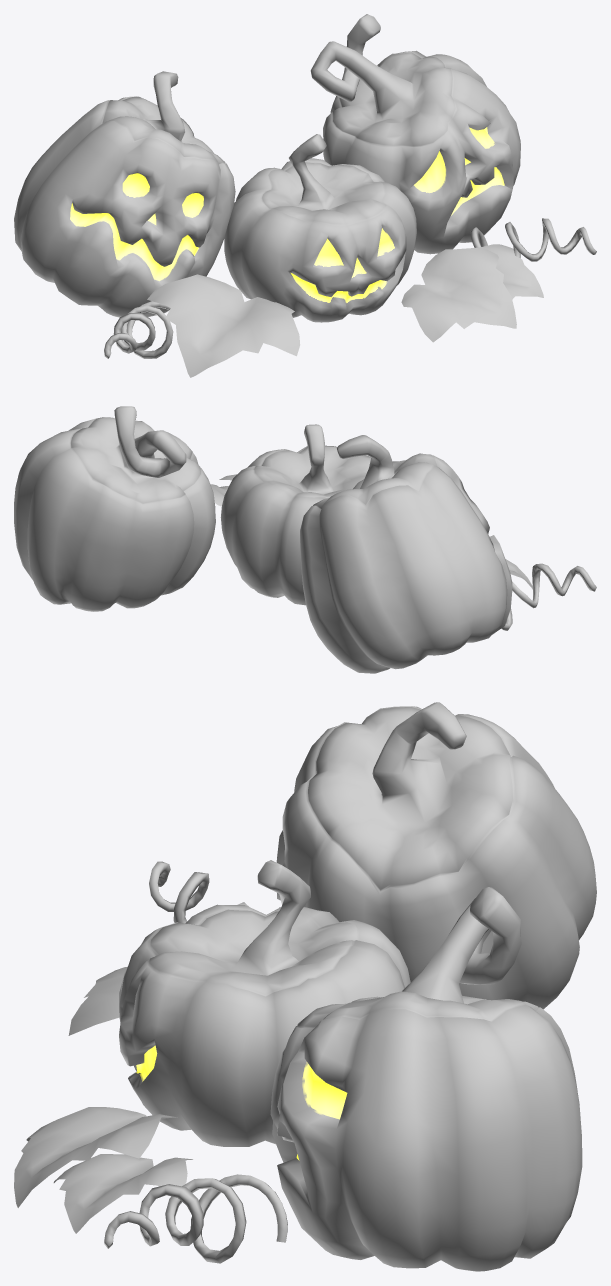
3 renders of one model, top to bottom at view 1: azimuth 30°, elevation 25°; view 2: azimuth 150°, elevation 25°; view 3: azimuth 270°, elevation 25°, orthographic. The views are drawn at different scales.
Parts seen in each view (by area): view 1: RetopoFlow.002, RetopoFlow.001, RetopoFlow, RetopoFlow.006, RetopoFlow.003, Spiral.002, Spiral.001, RetopoFlow.005; view 2: RetopoFlow.002, RetopoFlow.001, RetopoFlow, Spiral.002; view 3: RetopoFlow.001, RetopoFlow.002, RetopoFlow, RetopoFlow.003, Spiral.001, RetopoFlow.005, RetopoFlow.006, Spiral.002.
Part boxes in pixels (x1,y1,x2,y2): RetopoFlow.002: (14,71,235,317); RetopoFlow.001: (310,14,520,254); RetopoFlow: (224,134,416,322); RetopoFlow.006: (147,274,300,377); RetopoFlow.003: (401,247,516,342); Spiral.002: (104,301,173,358); Spiral.001: (470,218,596,261); RetopoFlow.005: (478,244,543,299); RetopoFlow.002: (300,435,512,673); RetopoFlow.001: (14,406,215,611); RetopoFlow: (220,424,371,605); Spiral.002: (501,563,596,630); RetopoFlow.001: (270,887,582,1271); RetopoFlow.002: (276,702,596,1009); RetopoFlow: (119,860,410,1146); RetopoFlow.003: (14,1107,177,1207); Spiral.001: (104,1174,287,1263); RetopoFlow.005: (53,1154,192,1233); RetopoFlow.006: (68,967,127,1035); Spiral.002: (149,861,248,923).
Size of the model in its own units: 4.21 by 1.85 by 2.78.
